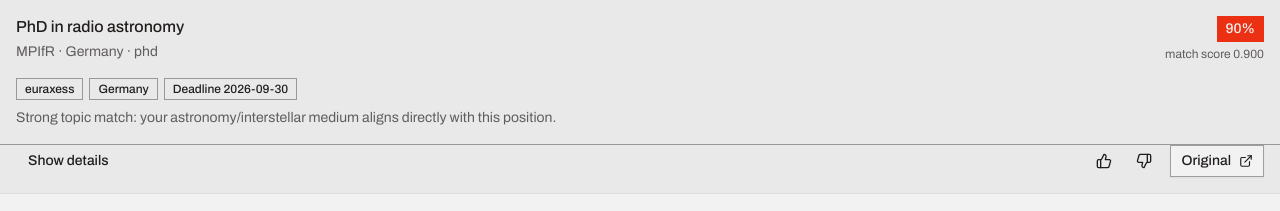
Test: MatchCard › submits thumbs-up feedback and confirms
Click the button named "This match is relevant".
click(1104, 161)  # box [1086,145,1122,177]
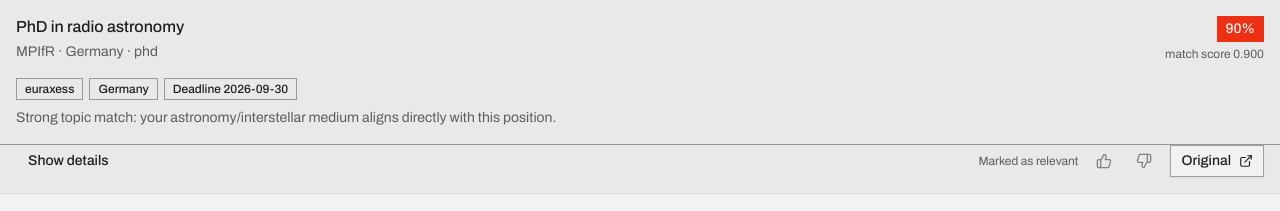
Check: the text "Marked as relevant" is shown, box [978,153,1078,169]
